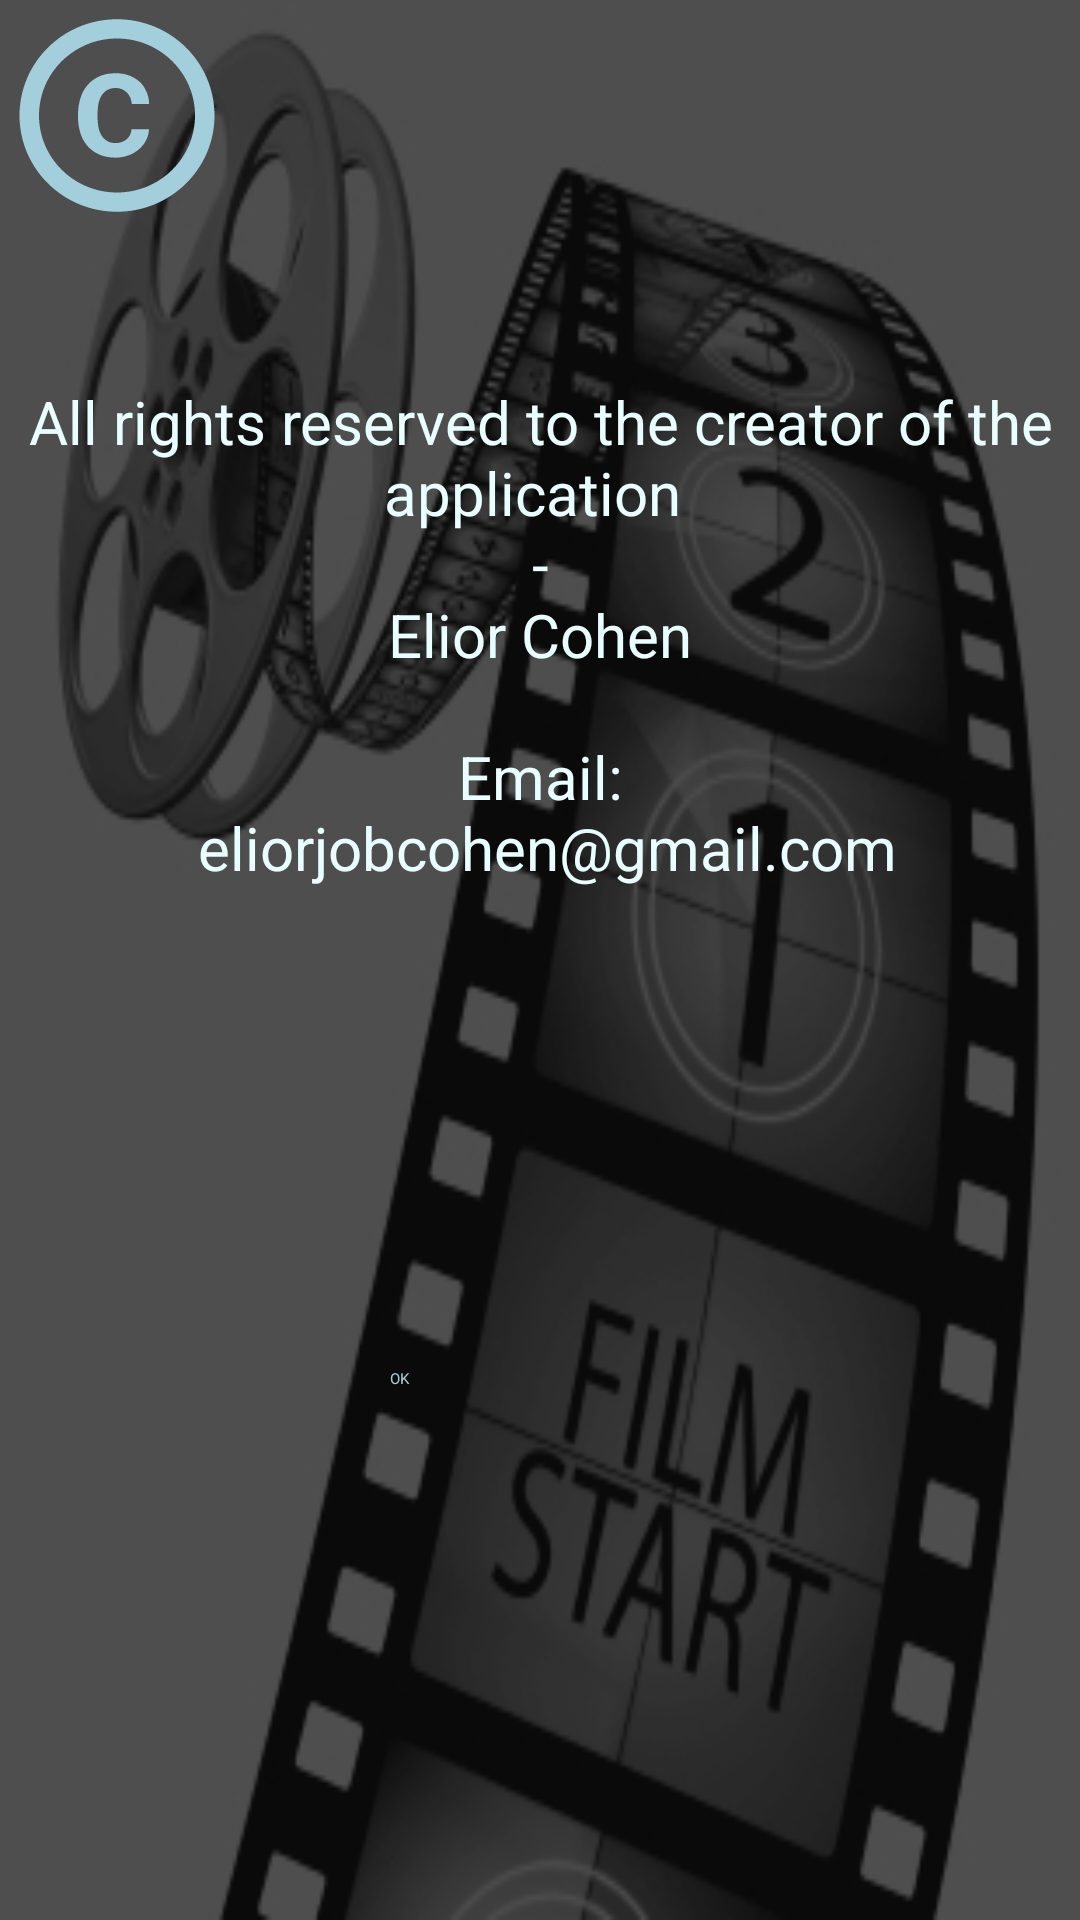

Point at icon controls on the screen. Image size 1080×1920, points as (x,y).
copyright lightblue: (126,125)
